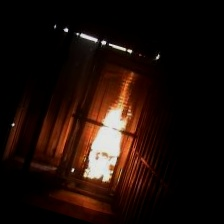fire: (81, 95, 137, 189)
